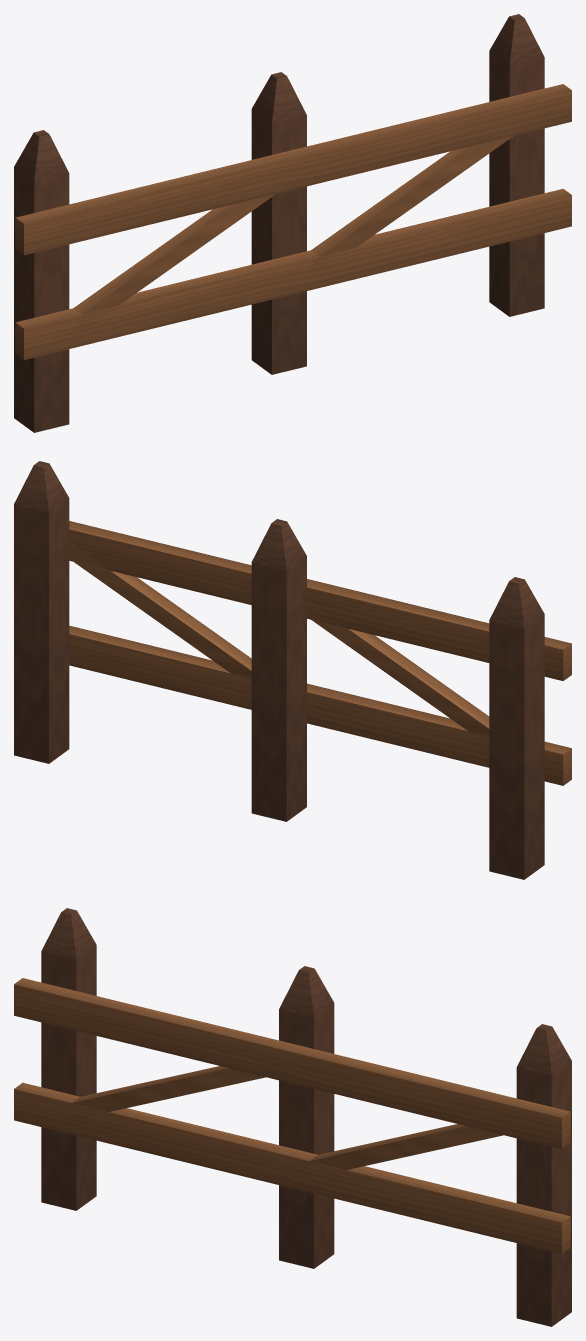
File: prop_fence_wood_01.glb
3 renders of one model, top to bottom at view 1: azimuth 30°, elevation 25°; view 2: azimuth 150°, elevation 25°; view 3: azimuth 330°, elevation 25°, orthographic.
Parts seen in each view (by area): view 1: prop_fence_wood_01; view 2: prop_fence_wood_01; view 3: prop_fence_wood_01.
Part boxes in pixels (x1,y1,x2,y2): prop_fence_wood_01: (14, 14, 571, 432); prop_fence_wood_01: (14, 461, 571, 879); prop_fence_wood_01: (14, 908, 571, 1326).
Bounding box in the file's own units: 2.19 × 1.1 × 0.2.
Materials: 1 (1 with a texture image).
